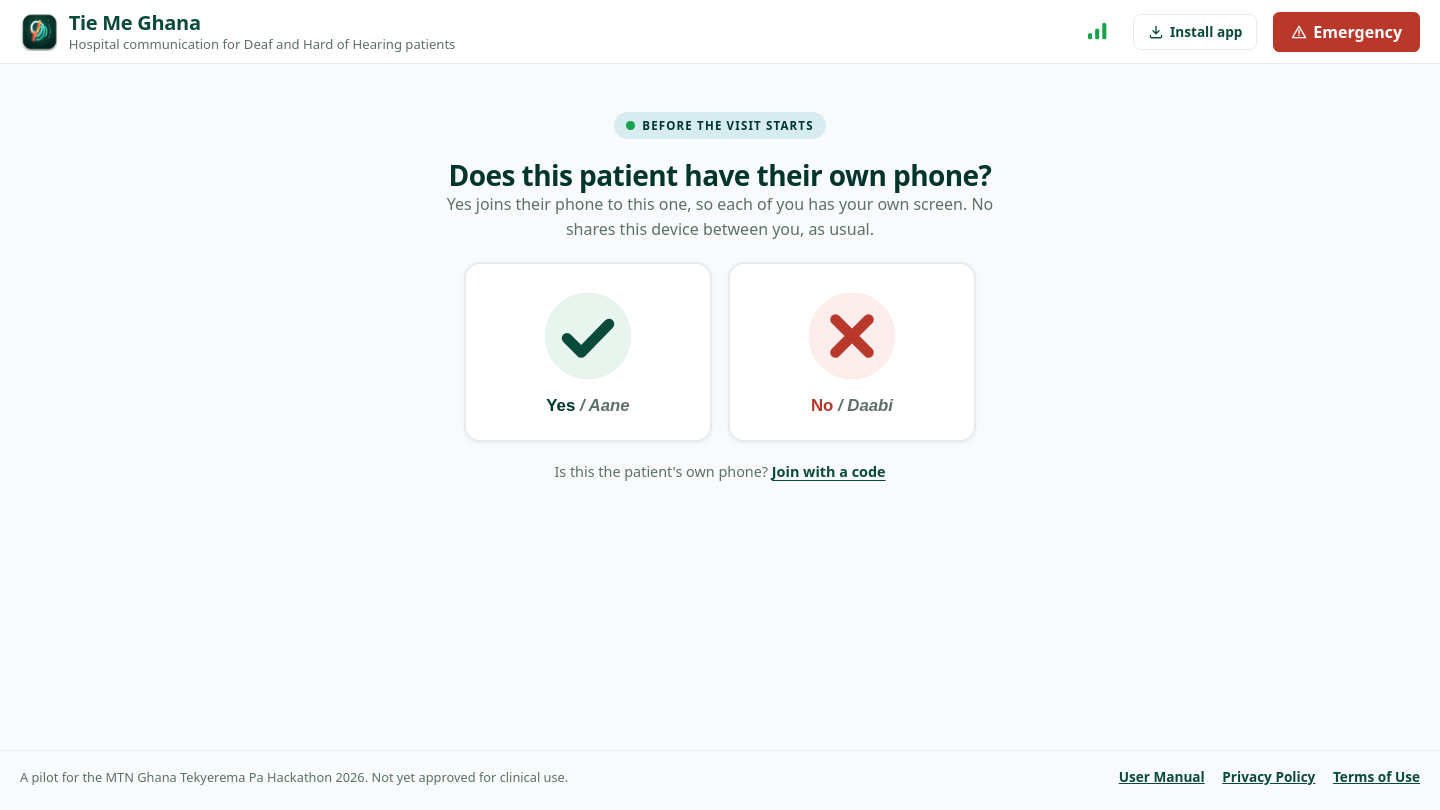
answering that the patient shares this device › asks for no code and opens no connection
Expected: the element with test id "device-choice" is shown, [447,112,993,481]
Step 1. Click the button with test id "choice-no" → point(852, 352), box [728,262,976,442]
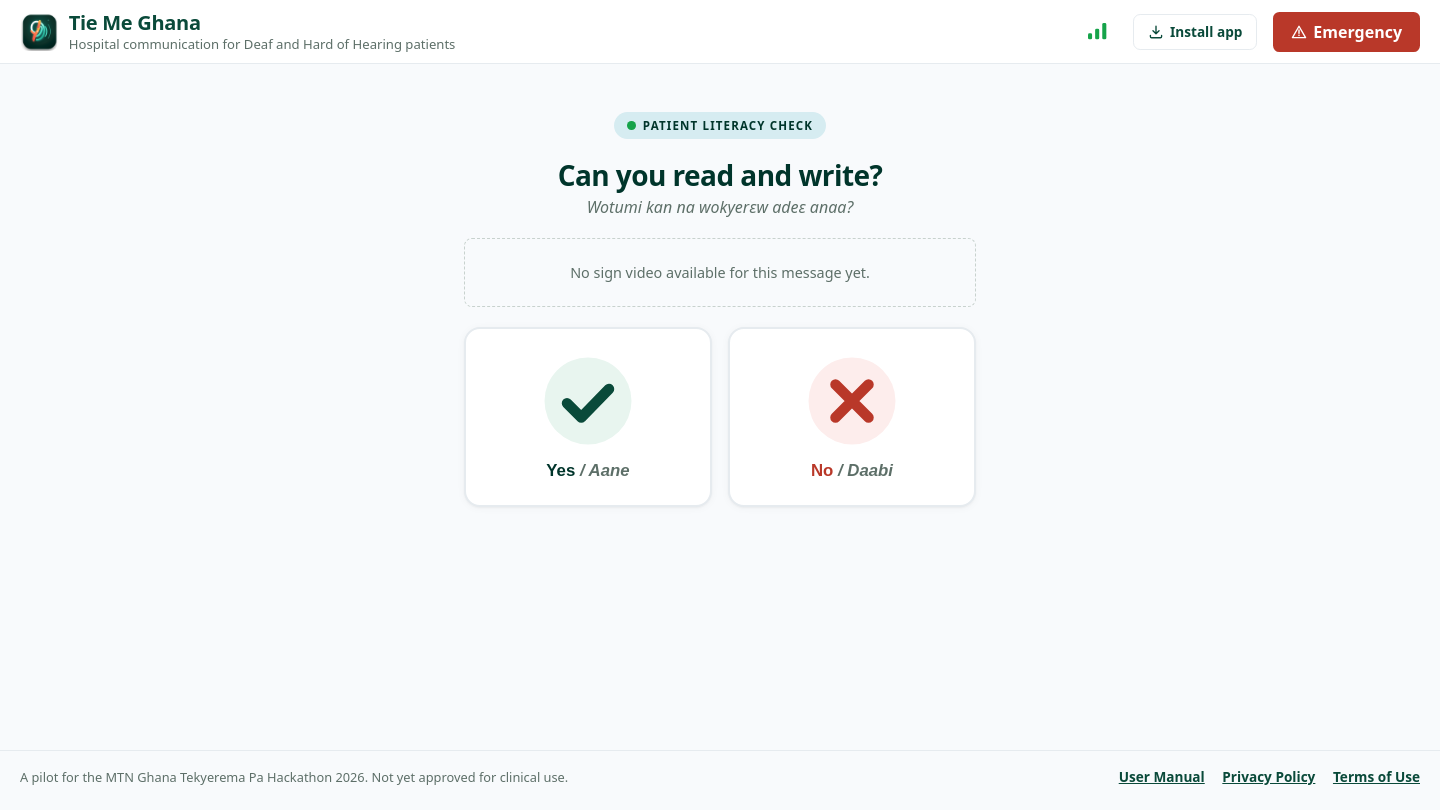
Result: the element with test id "literacy-check" is shown at [464,112,976,507]
